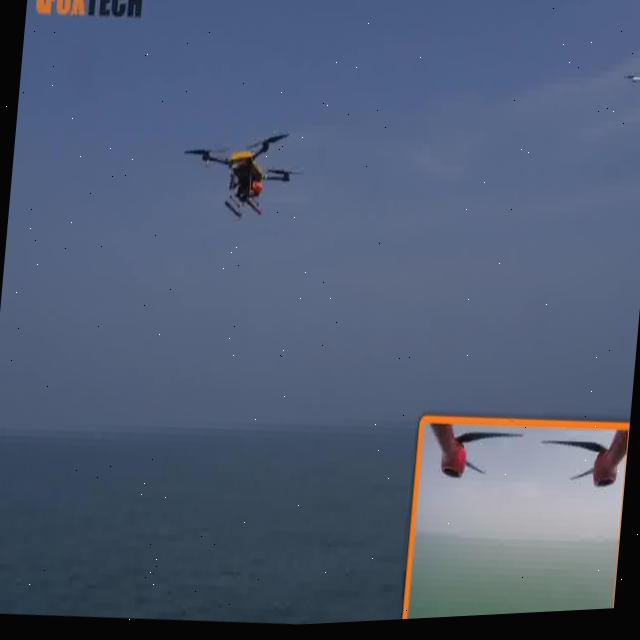drone: (186, 110, 308, 242), (609, 38, 640, 130)
